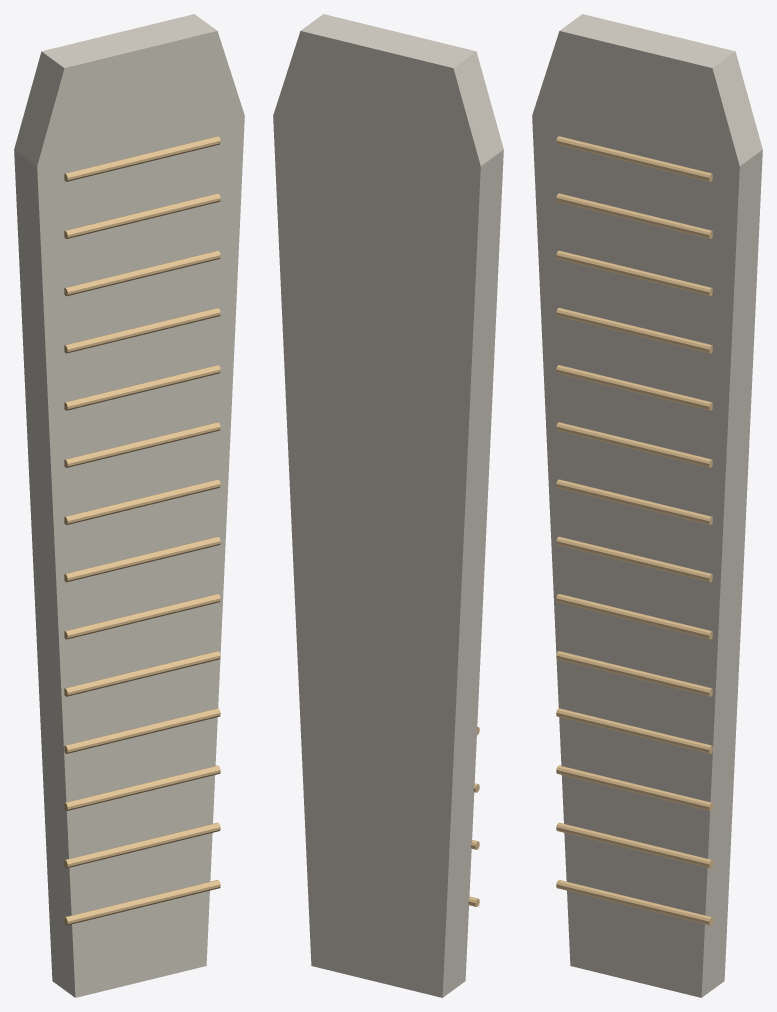
The model's file is shinji_shaku.glb.
3 renders of one model, left to right at view 1: azimuth 30°, elevation 25°; view 2: azimuth 150°, elevation 25°; view 3: azimuth 330°, elevation 25°, orthographic.
Parts seen in each view (by area): view 1: Carved ritual shaku rounded ivory staff, Shaku fine vertical wood grain, Shaku fine vertical wood grain.001, Shaku fine vertical wood grain.002, Shaku fine vertical wood grain.005, Shaku fine vertical wood grain.011, Shaku fine vertical wood grain.006, Shaku fine vertical wood grain.004, Shaku fine vertical wood grain.009, Shaku fine vertical wood grain.010, Shaku fine vertical wood grain.003, Shaku fine vertical wood grain.007 (+3 smaller); view 2: Carved ritual shaku rounded ivory staff; view 3: Carved ritual shaku rounded ivory staff, Shaku fine vertical wood grain, Shaku fine vertical wood grain.001, Shaku fine vertical wood grain.011, Shaku fine vertical wood grain.002, Shaku fine vertical wood grain.005, Shaku fine vertical wood grain.006, Shaku fine vertical wood grain.004, Shaku fine vertical wood grain.009, Shaku fine vertical wood grain.010, Shaku fine vertical wood grain.003, Shaku fine vertical wood grain.007 (+3 smaller).
Boxes of the visible parts, left/top/right/bottom form: Carved ritual shaku rounded ivory staff: left=14, top=14, right=244, bottom=997; Shaku fine vertical wood grain: left=63, top=880, right=220, bottom=925; Shaku fine vertical wood grain.001: left=63, top=822, right=220, bottom=868; Shaku fine vertical wood grain.002: left=63, top=765, right=220, bottom=810; Shaku fine vertical wood grain.005: left=64, top=594, right=220, bottom=639; Shaku fine vertical wood grain.011: left=64, top=250, right=220, bottom=296; Shaku fine vertical wood grain.006: left=64, top=536, right=220, bottom=582; Shaku fine vertical wood grain.004: left=64, top=651, right=220, bottom=696; Shaku fine vertical wood grain.009: left=64, top=365, right=220, bottom=410; Shaku fine vertical wood grain.010: left=64, top=308, right=220, bottom=353; Shaku fine vertical wood grain.003: left=64, top=708, right=220, bottom=753; Shaku fine vertical wood grain.007: left=64, top=479, right=220, bottom=524; Carved ritual shaku rounded ivory staff: left=273, top=14, right=503, bottom=997; Carved ritual shaku rounded ivory staff: left=532, top=14, right=762, bottom=997; Shaku fine vertical wood grain: left=556, top=880, right=713, bottom=925; Shaku fine vertical wood grain.001: left=556, top=822, right=713, bottom=868; Shaku fine vertical wood grain.011: left=556, top=250, right=712, bottom=296; Shaku fine vertical wood grain.002: left=556, top=765, right=713, bottom=810; Shaku fine vertical wood grain.005: left=556, top=594, right=712, bottom=639; Shaku fine vertical wood grain.006: left=556, top=536, right=712, bottom=582; Shaku fine vertical wood grain.004: left=556, top=651, right=712, bottom=696; Shaku fine vertical wood grain.009: left=556, top=365, right=712, bottom=410; Shaku fine vertical wood grain.010: left=556, top=308, right=712, bottom=353; Shaku fine vertical wood grain.003: left=556, top=708, right=712, bottom=753; Shaku fine vertical wood grain.007: left=556, top=479, right=712, bottom=524.
Bounding box in the file's own units: 0.4546 × 1.95 × 0.0995.
